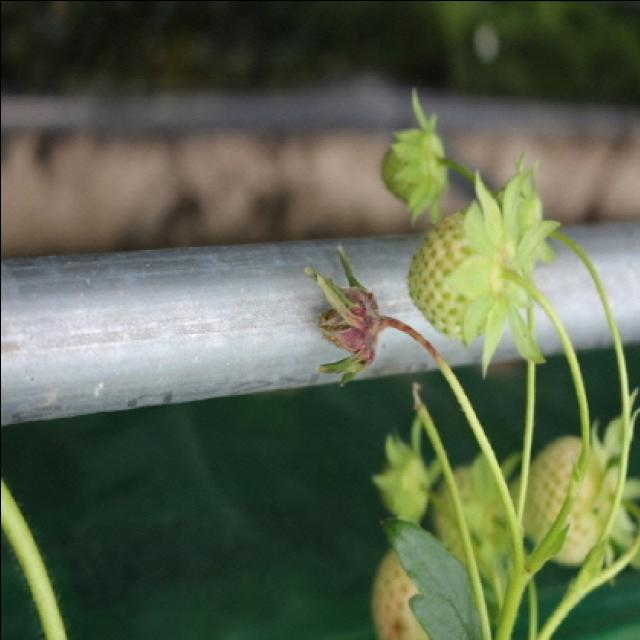Gray Mold: (302, 250, 424, 386)
